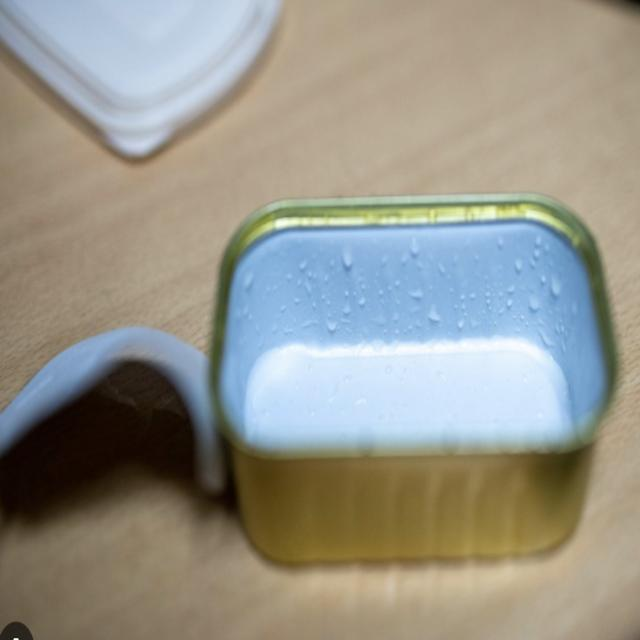recyclable: (193, 157, 634, 596)
